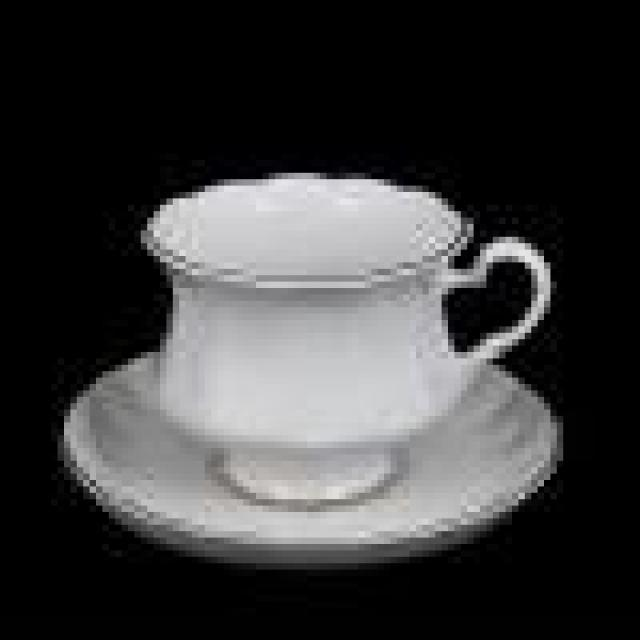taza: (126, 156, 564, 482)
